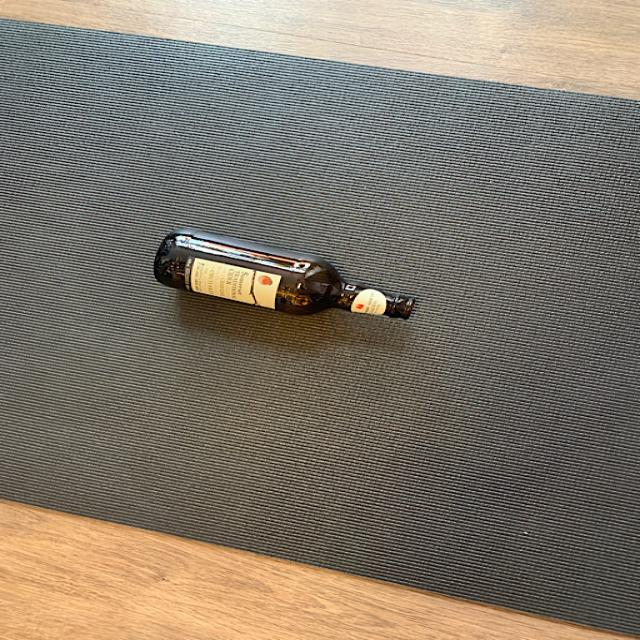litter: (151, 225, 421, 323)
